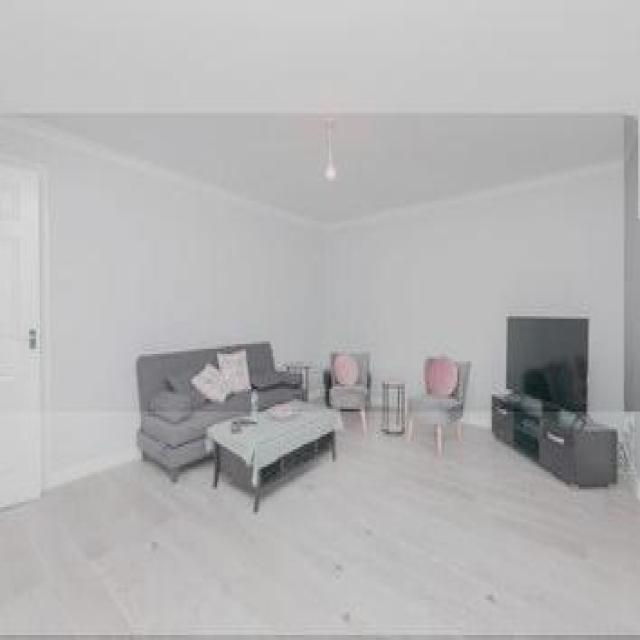Wall: (0, 114, 627, 487), (0, 413, 640, 635), (0, 1, 640, 218), (288, 116, 410, 223), (625, 116, 638, 476)
